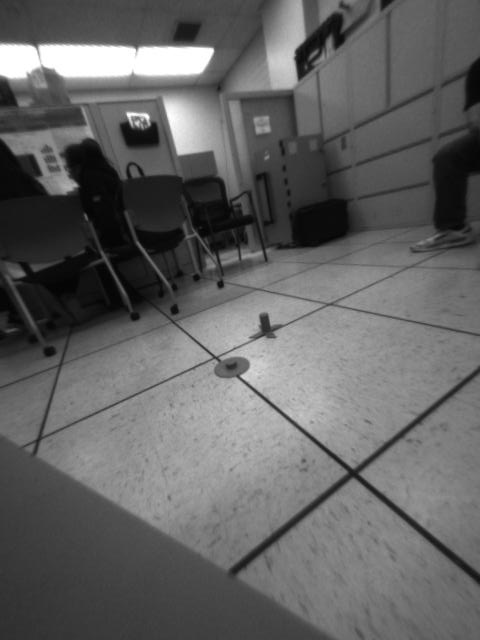X: (248, 311, 285, 342)
